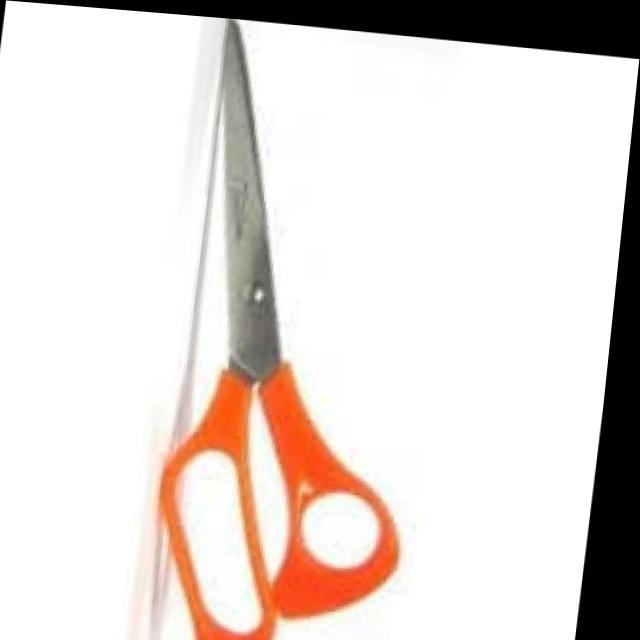scissor: (153, 13, 462, 640)
